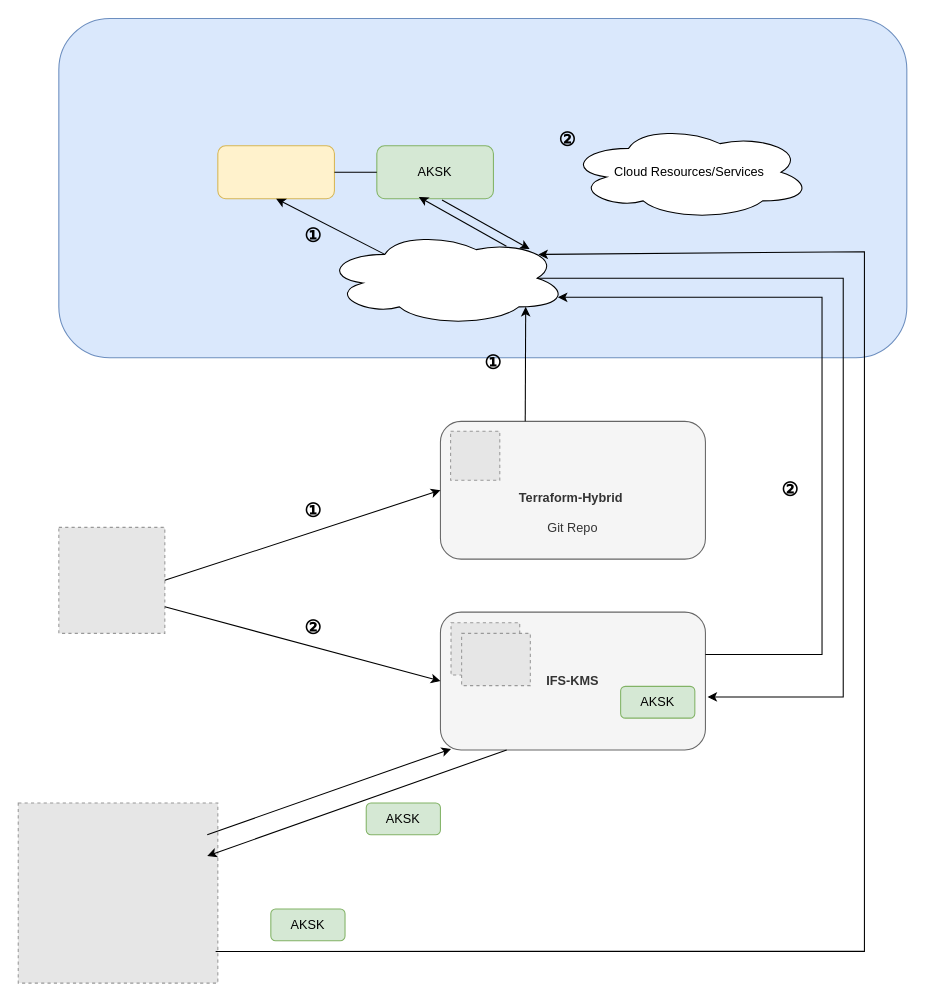
The diagram is 926 pixels wide and 1002 high, and some of its shapes have lost their labels. Grey dashed boxes stand in for pictures. The centre of each missing label's shape, as x and y in pixels:
"Cloud Provider OpenAPI" belongs at point (445, 277).
"Program User （IAM/RAM User)" belongs at point (275, 172).
